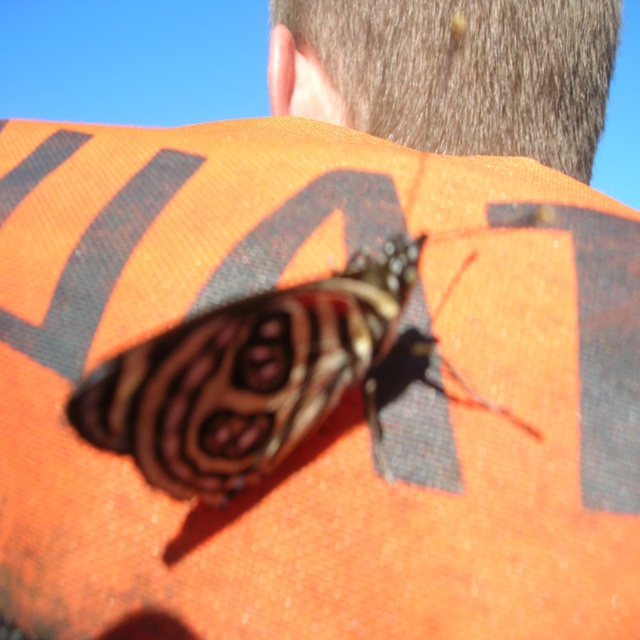Butterfly: (89, 223, 492, 551)
